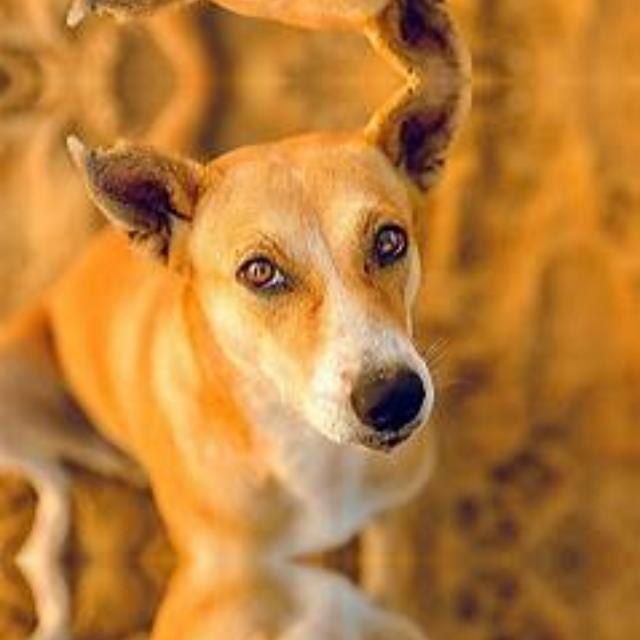dog: (18, 80, 468, 542), (17, 0, 468, 79), (17, 577, 468, 640)
